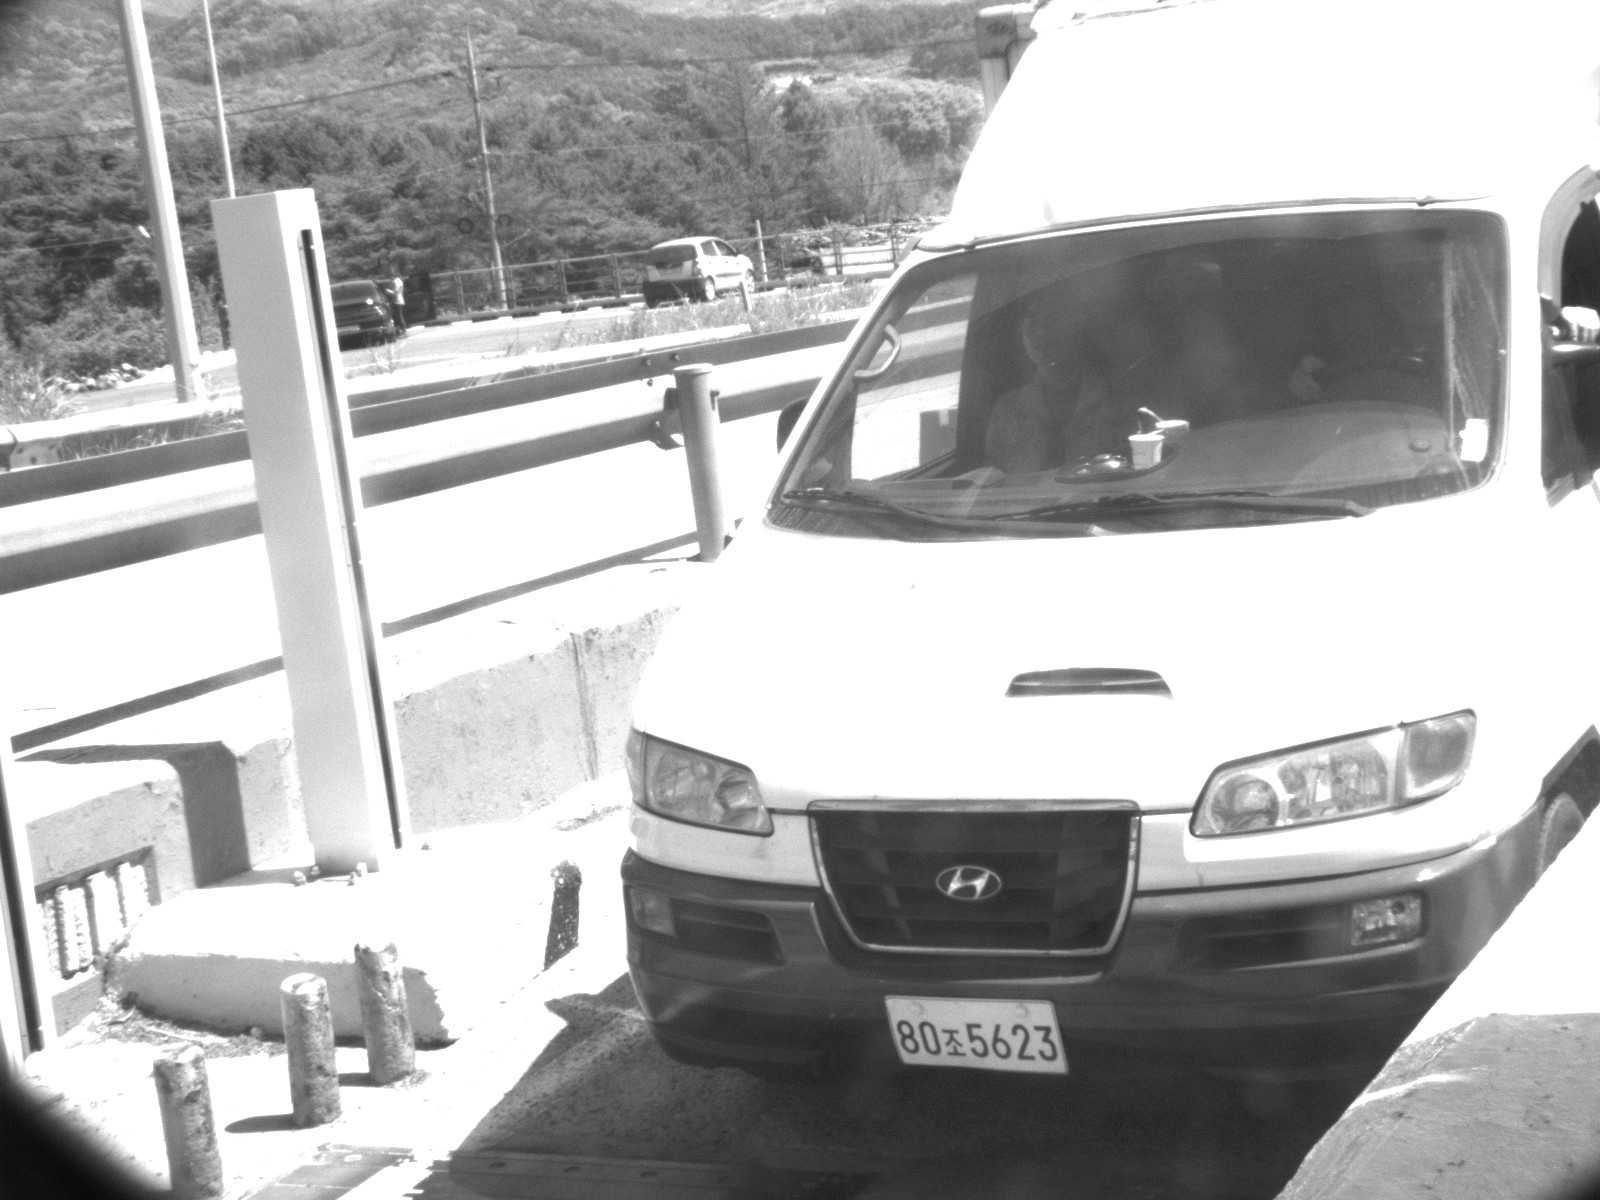car: (616, 1, 1600, 1094), (635, 234, 762, 305), (320, 279, 410, 345)
plate: (883, 994, 1073, 1079)
